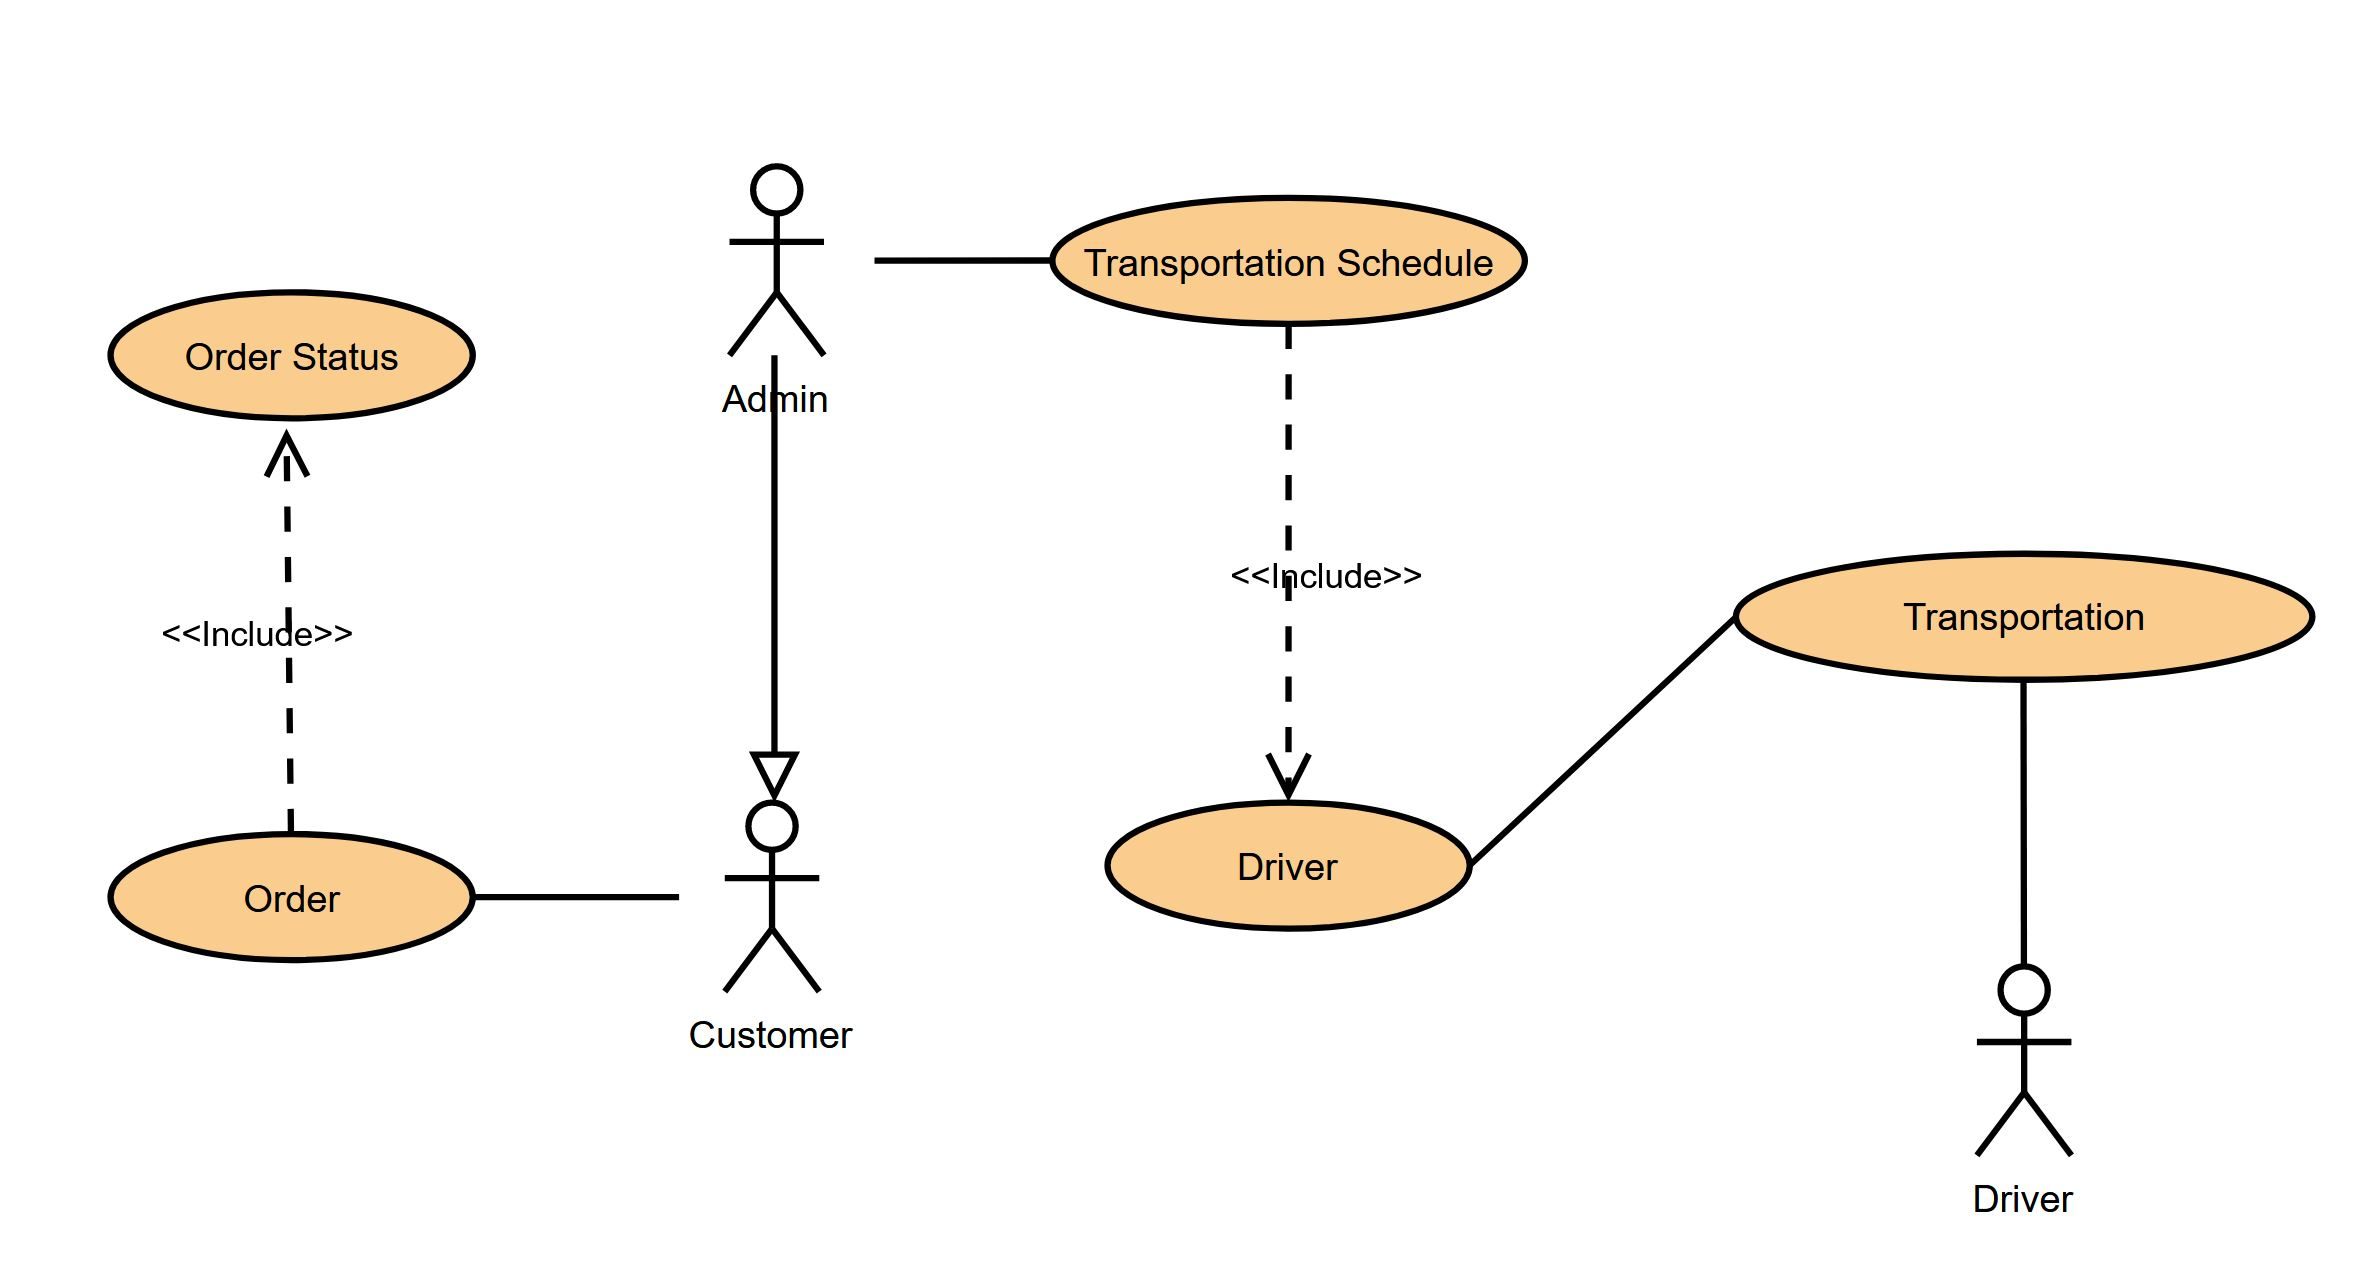actor: (719, 156, 844, 368), (1952, 969, 2086, 1163), (721, 800, 828, 996)
association: (1470, 613, 1740, 866), (1263, 328, 1319, 792), (262, 429, 316, 823), (1987, 687, 2061, 965), (873, 225, 1043, 288)
generalization: (748, 357, 803, 795)
text: (1078, 239, 1495, 281), (1879, 591, 2161, 639), (184, 330, 401, 383), (1227, 555, 1431, 600), (160, 610, 364, 654), (680, 1012, 865, 1056), (226, 867, 357, 921), (1230, 837, 1349, 892), (1970, 1170, 2089, 1224), (727, 383, 837, 421)
use_case: (1734, 547, 2315, 687), (1048, 192, 1528, 331), (1100, 797, 1473, 938), (105, 828, 481, 968), (104, 289, 474, 423)
